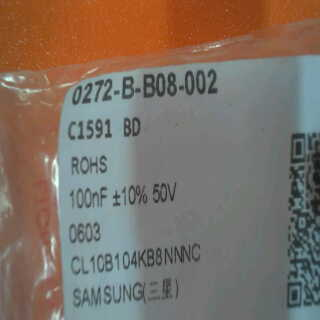100nF: (68, 184, 113, 215)
